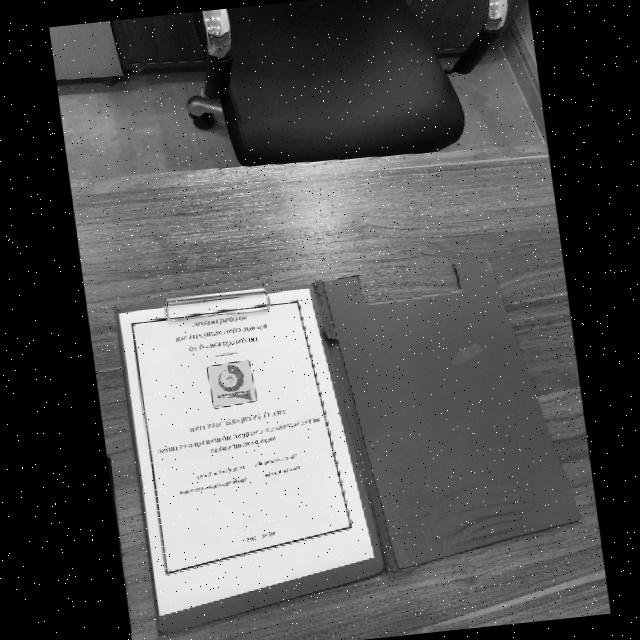document: (119, 288, 374, 616)
